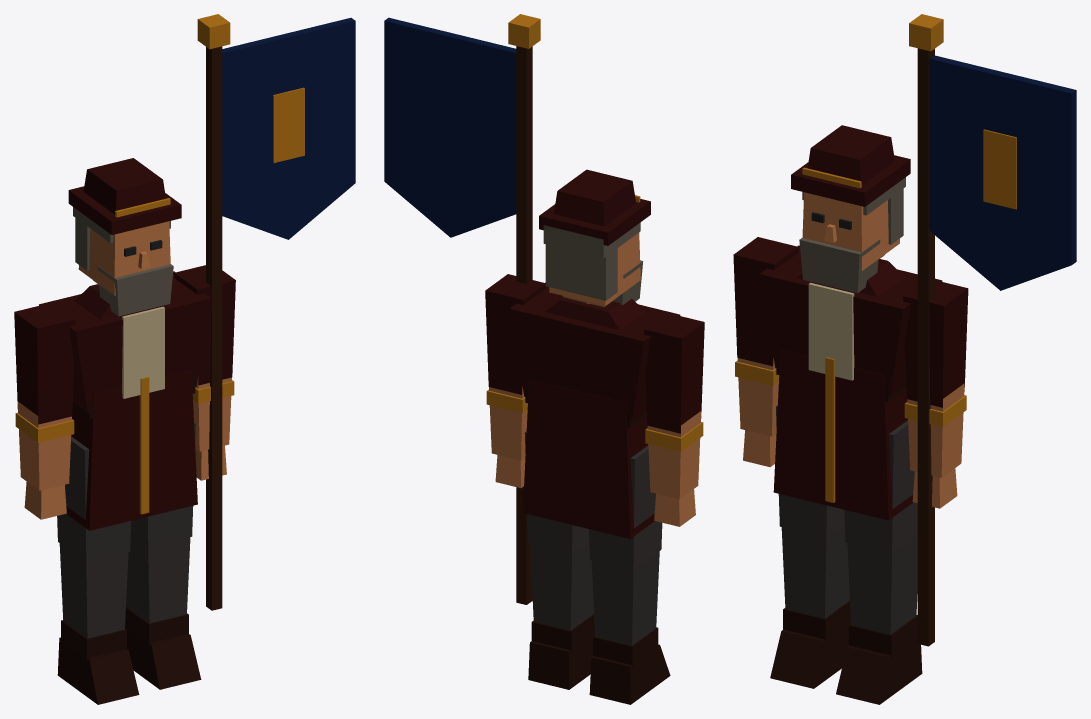
Rendered from HadrikGuildas.fbx.
The picture shows the model from 3 angles, left to right: view 1: azimuth 30°, elevation 25°; view 2: azimuth 150°, elevation 25°; view 3: azimuth 330°, elevation 25°; orthographic projection. The views are drawn at different scales.
Parts seen in each view (by area): view 1: ArmL, Body, LegR, Head, ArmR, LegL; view 2: ArmL, Body, LegR, Head, ArmR, LegL; view 3: ArmL, Body, LegL, Head, LegR, ArmR.
Boxes of the visible parts, x1=… form: ArmL: x1=174, y1=14, x2=355, y2=610; Body: x1=39, y1=271, x2=211, y2=530; LegR: x1=57, y1=436, x2=139, y2=704; Head: x1=68, y1=158, x2=181, y2=316; ArmR: x1=14, y1=302, x2=75, y2=519; LegL: x1=125, y1=422, x2=201, y2=689; ArmL: x1=384, y1=14, x2=545, y2=604; Body: x1=509, y1=282, x2=680, y2=538; LegR: x1=589, y1=445, x2=670, y2=704; Head: x1=539, y1=169, x2=650, y2=307; ArmR: x1=643, y1=312, x2=704, y2=526; LegL: x1=524, y1=431, x2=594, y2=689; ArmL: x1=903, y1=14, x2=1076, y2=646; Body: x1=759, y1=245, x2=942, y2=520; LegL: x1=836, y1=420, x2=922, y2=704; Head: x1=791, y1=125, x2=910, y2=292; LegR: x1=770, y1=405, x2=850, y2=688; ArmR: x1=733, y1=237, x2=798, y2=467.
Size of the model in its own units: 1.26 by 2.42 by 0.3162.
